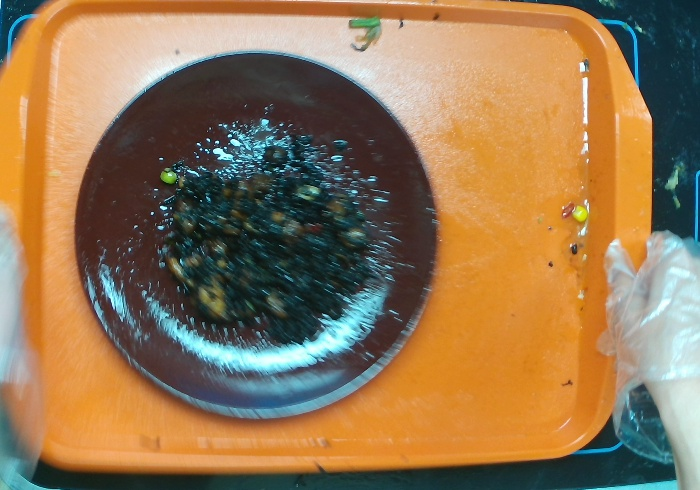HZYJPL-Ka_Fei_Yuan_Pan: (72, 49, 438, 420)
